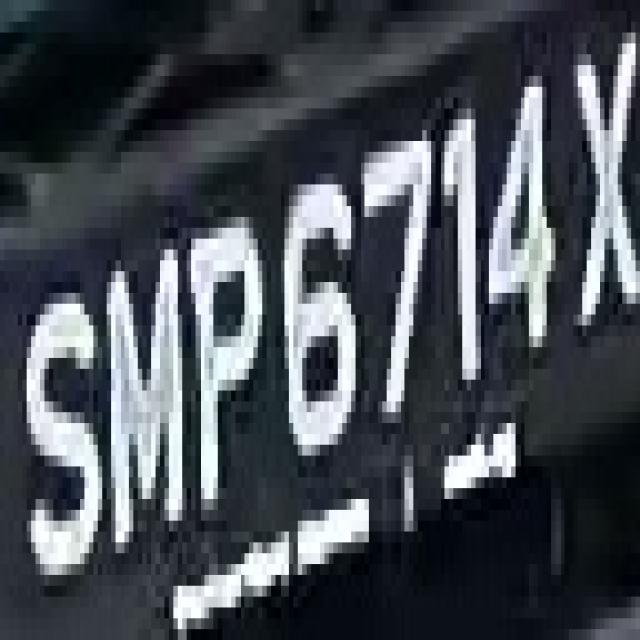1: (436, 98, 494, 412)
4: (480, 54, 564, 358)
6: (280, 141, 356, 477)
7: (351, 119, 436, 445)
M: (93, 217, 191, 553)
P: (187, 184, 262, 521)
S: (18, 271, 102, 597)
X: (573, 11, 640, 347)
